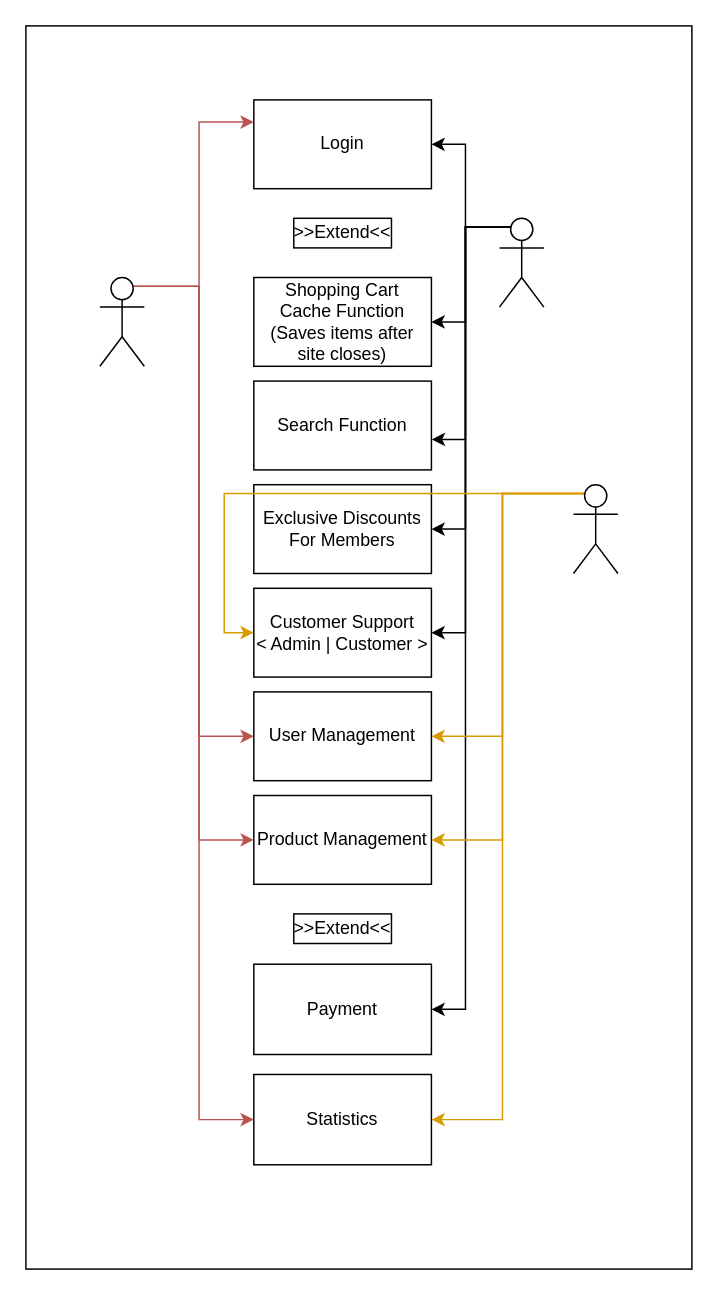
Image size: 718x1295. Some labels were removed from this diagram. The centre of each missing label's shape, as x and y in pixels:
"Admin" belongs at (x=595, y=528).
"Customer" belongs at (x=521, y=262).
"Owner" belongs at (x=121, y=321).
